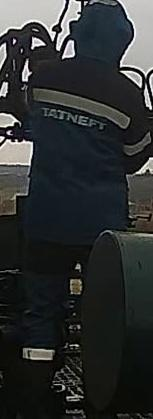vest: (20, 56, 146, 250)
